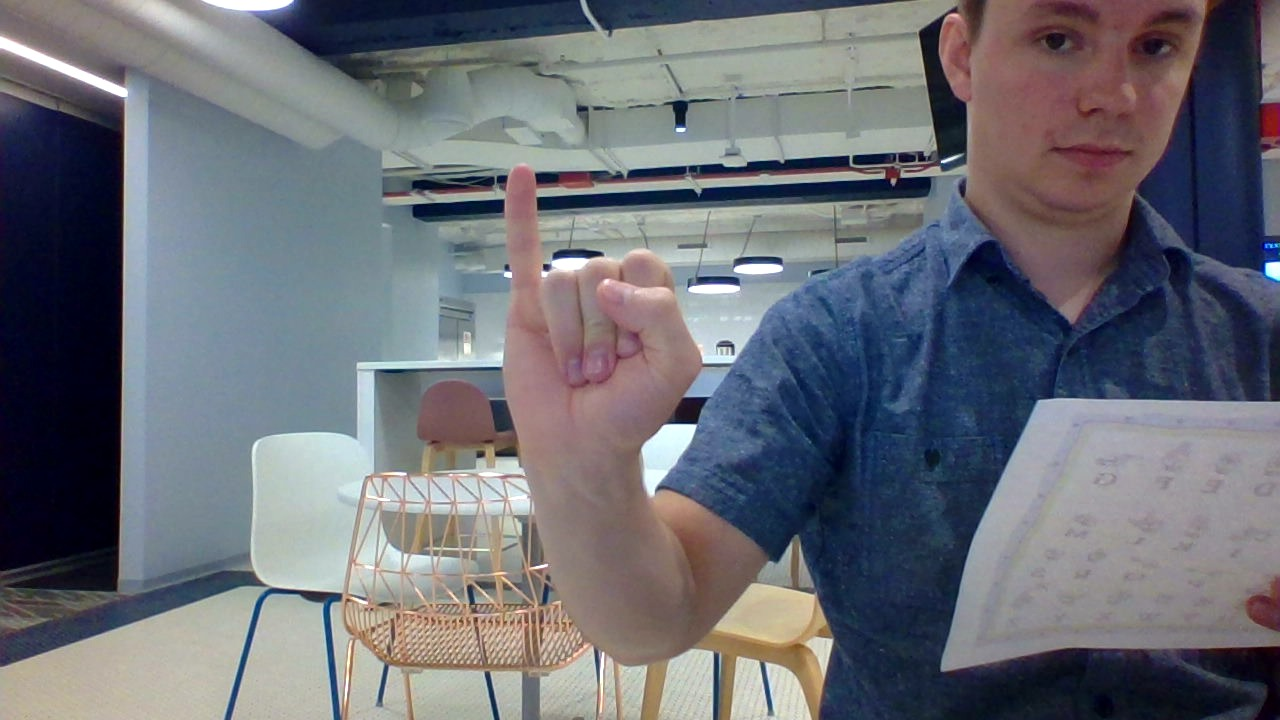i: (478, 155, 723, 477)
